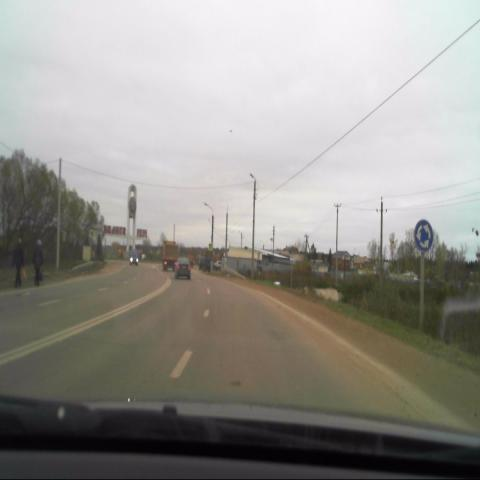4_3: (414, 218, 434, 255)
